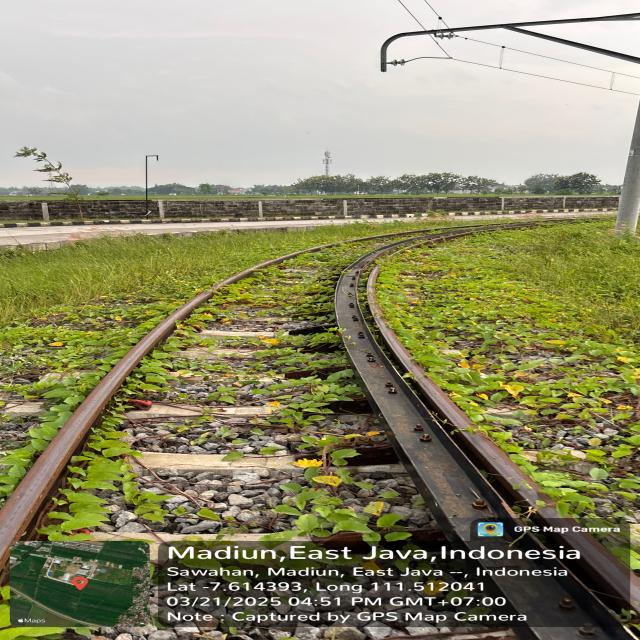rail-detection: (335, 238, 637, 640), (0, 250, 309, 569), (67, 230, 429, 440), (430, 221, 551, 239), (27, 440, 68, 489)
